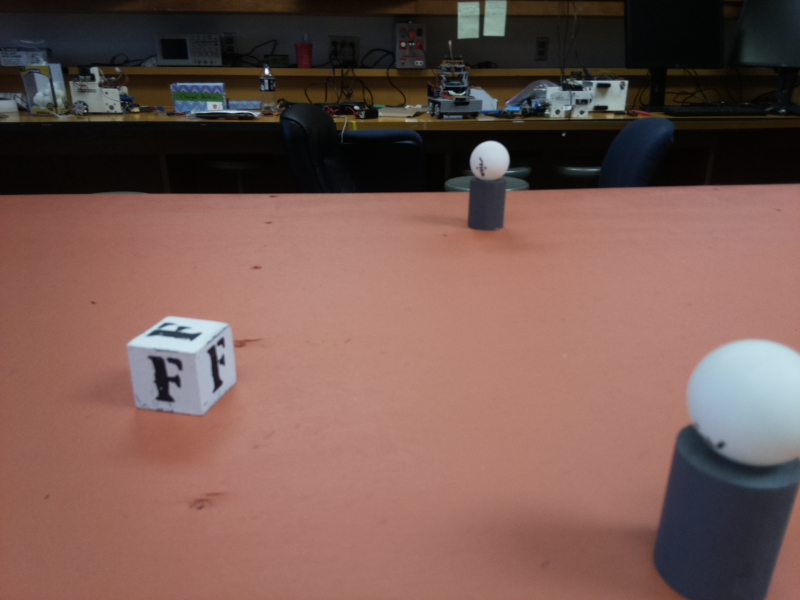blockF: (134, 312, 236, 413)
obstacle: (657, 339, 800, 597), (468, 138, 507, 229)
